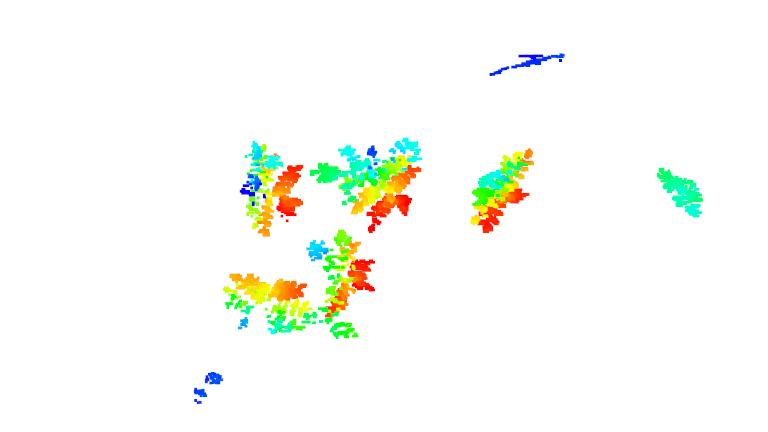chickpea: (313, 134, 424, 230), (223, 276, 355, 347), (241, 140, 309, 238), (302, 232, 375, 315), (470, 148, 537, 233), (659, 165, 710, 221)
